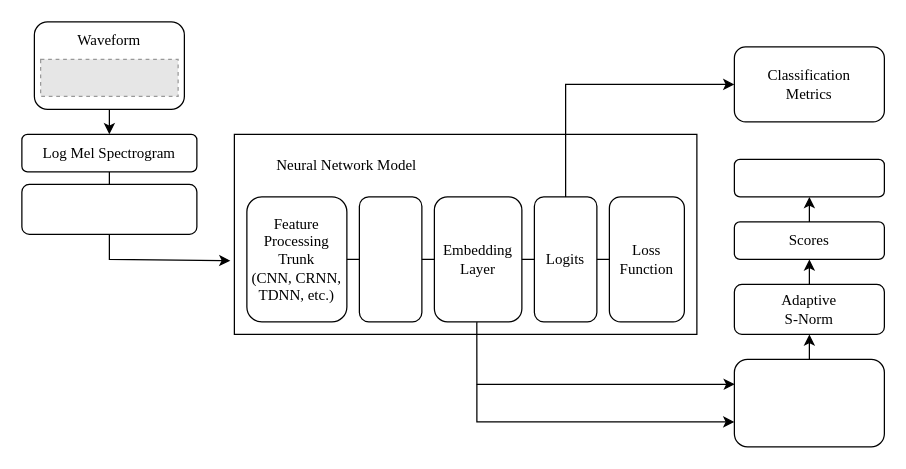
Some shapes in this 906 by 469 pixel diagram are drawn without their labels. Grey dashed boxes stand in for pictures. Here are the shapes that lost their labels. From the top down, the box of each, then its label:
(733, 158, 884, 197): EER / MinDCF
(21, 183, 197, 234): Cepstral Mean Normalization
(358, 196, 422, 322): Pooling Layer
(733, 358, 884, 447): Cosine Similarity
